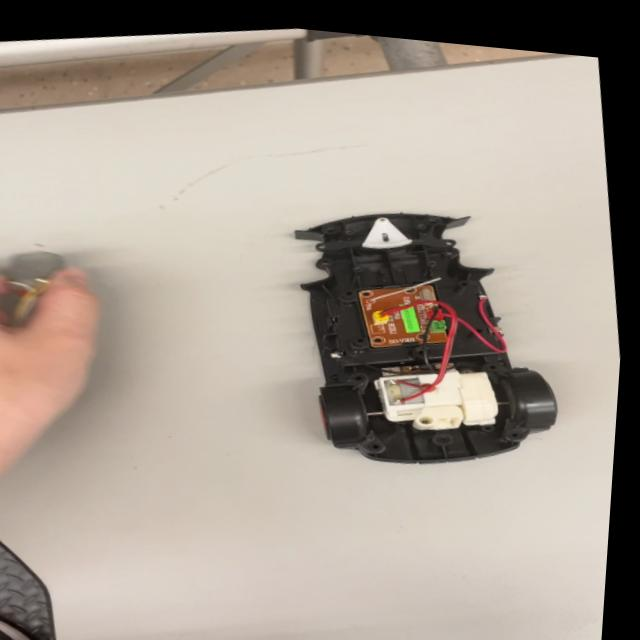Chassis: (267, 178, 570, 501)
